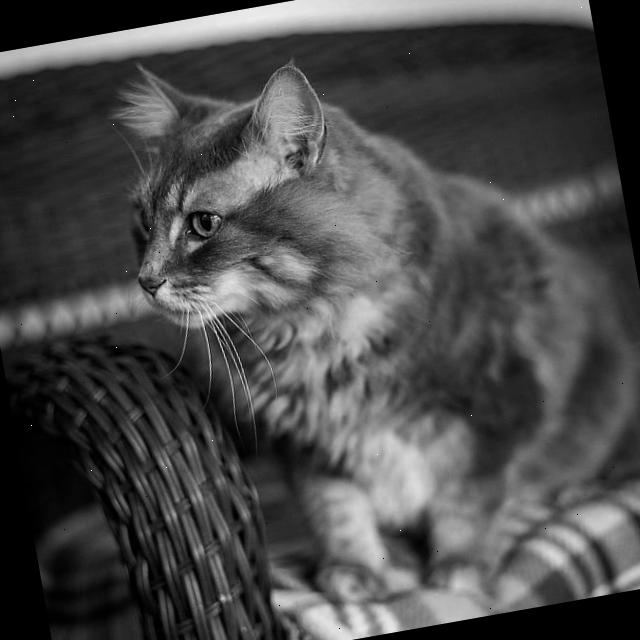domestic_long_hair_cat: (54, 8, 421, 432)
